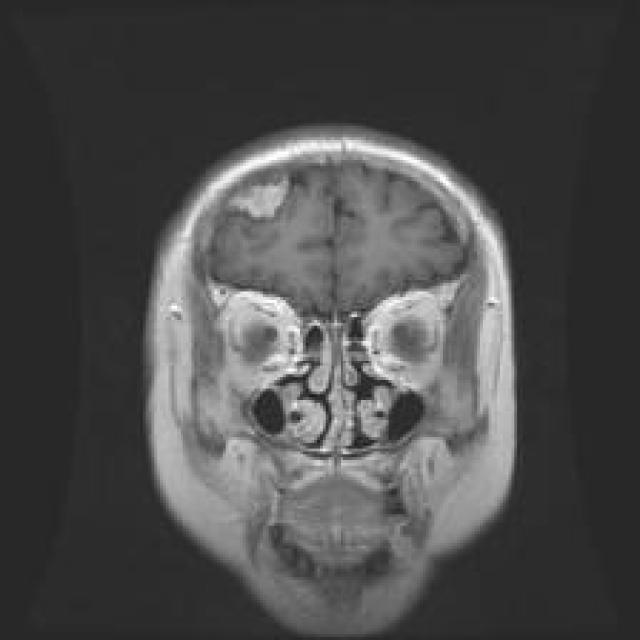meningioma_tumor: (216, 167, 298, 228)
